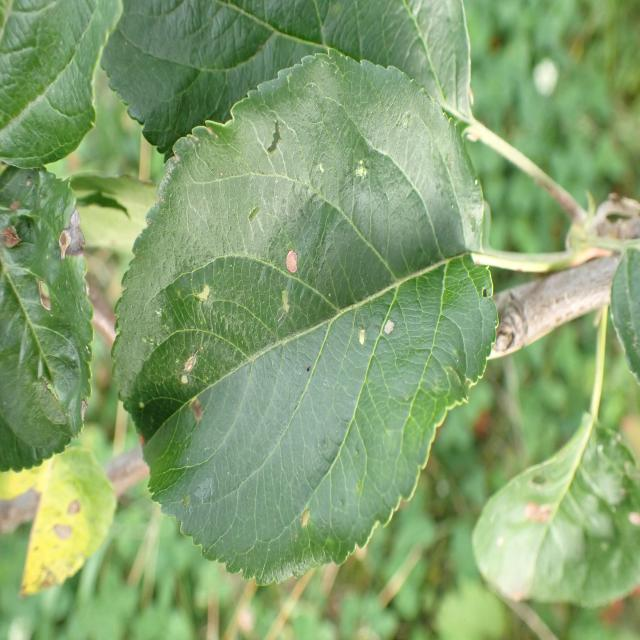Black Rot: (270, 241, 304, 289), (172, 336, 196, 398), (188, 261, 219, 308), (32, 274, 59, 318), (347, 311, 369, 361), (378, 308, 402, 342)
